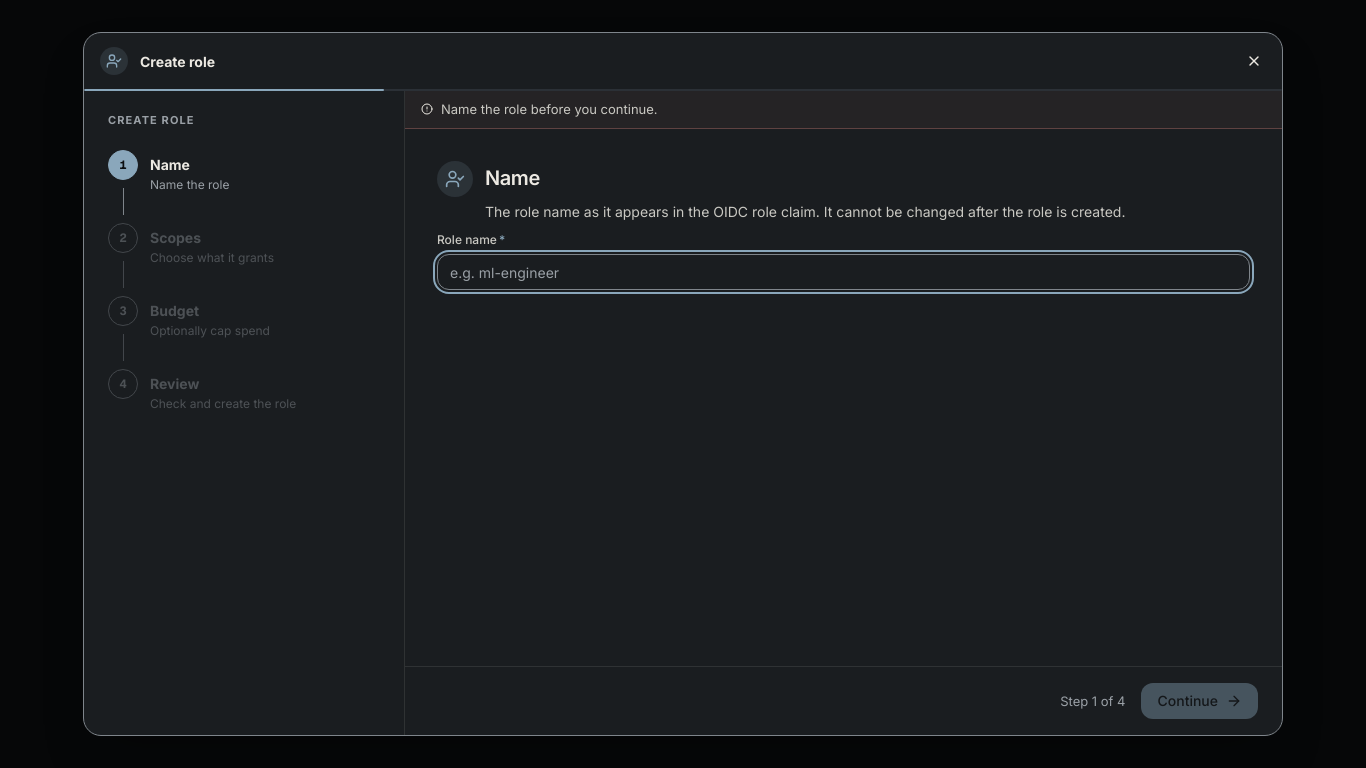
Test: CreateRoleWizard › cannot choose scopes when the vocabulary failed to load
Type "ml-engineer" into the field labelled "Role name*".
click(844, 272); type("ml-engineer")  # box [437,254,1250,290]
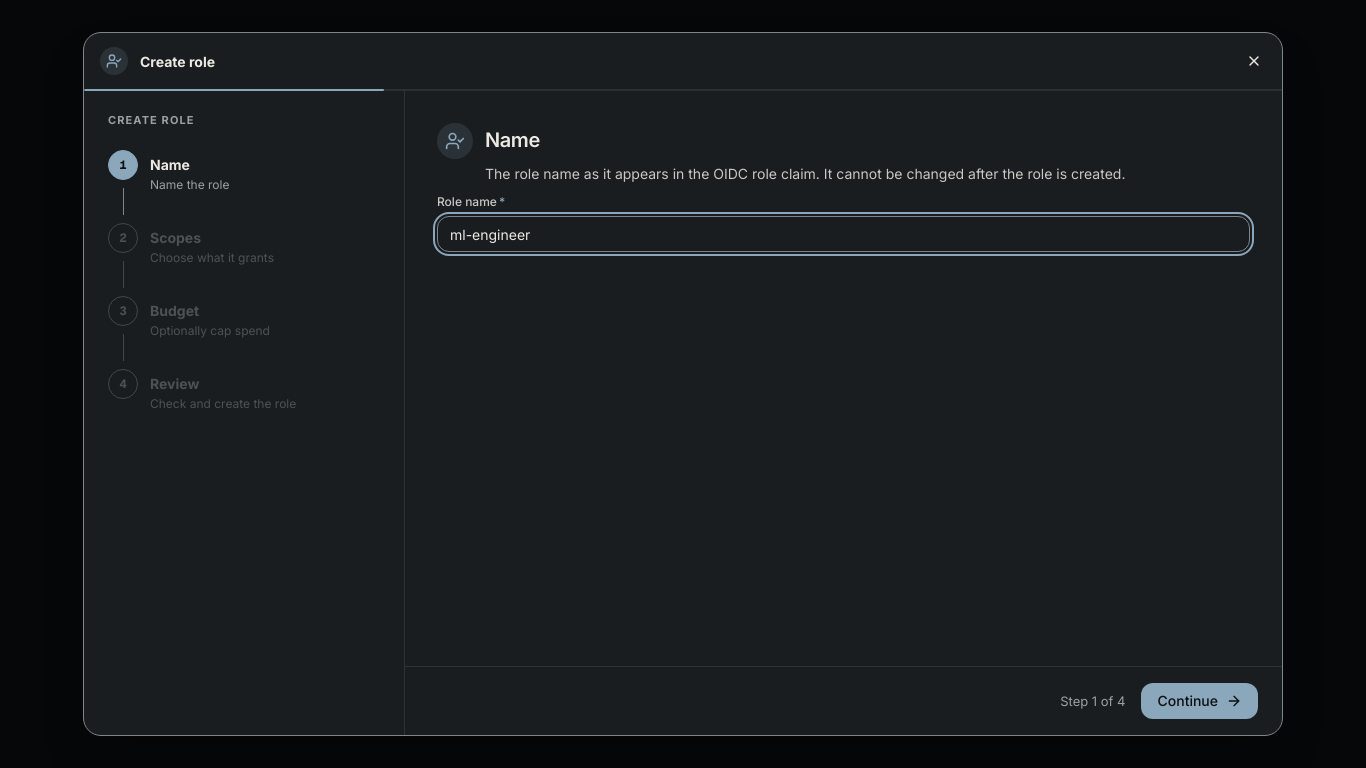
Click the button "Continue".
click(1200, 701)  # box [1142,683,1258,719]
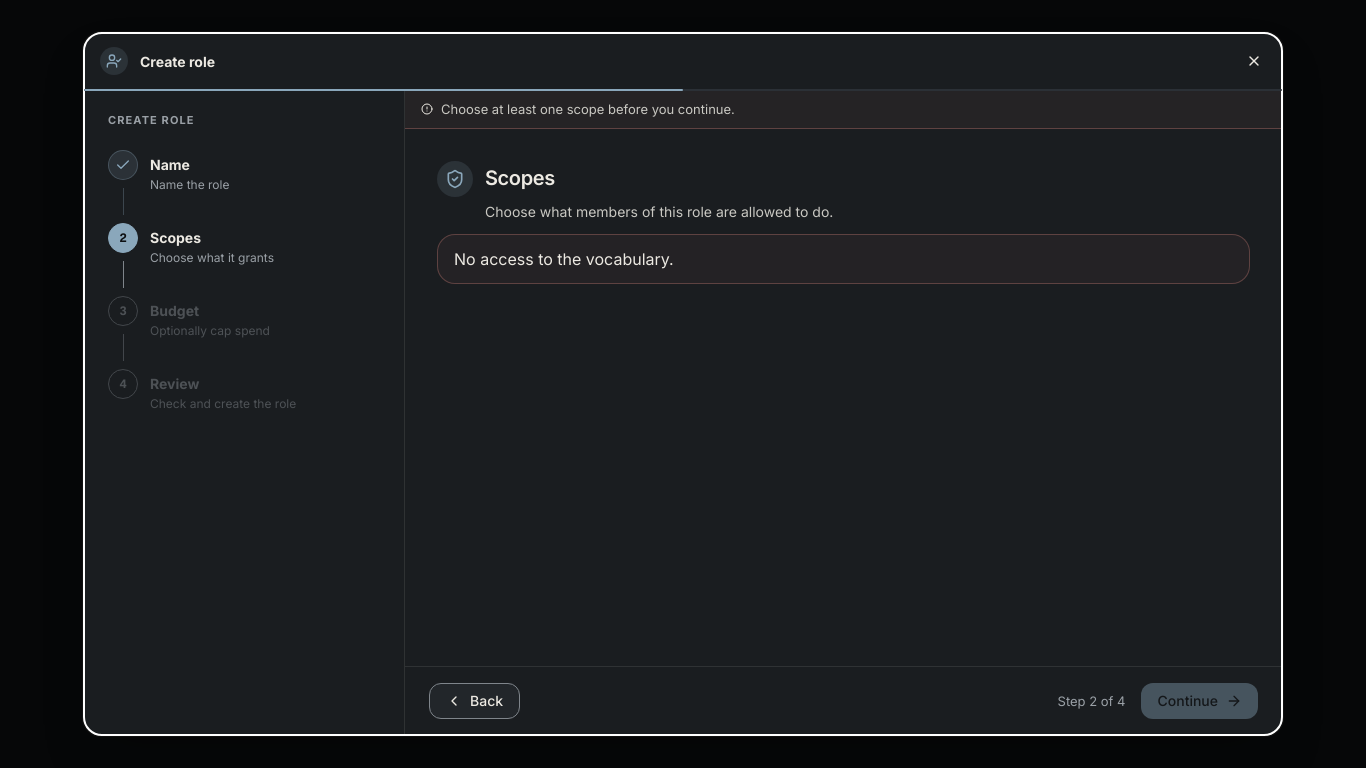
Check: the text "No access to the vocabulary." is shown, box [437,234,1250,284]
Check: the button "Continue" is disabled, box [1142,683,1258,719]
